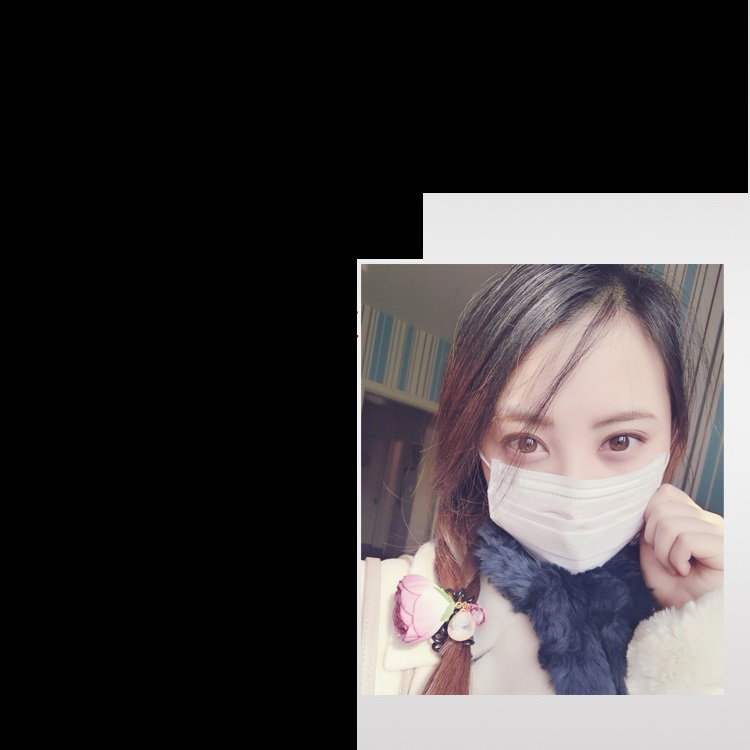face_mask: (478, 323, 671, 582)
